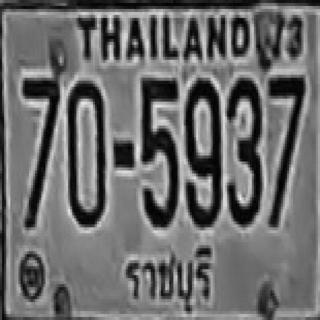N00: (67, 78, 104, 224)
N03: (225, 75, 260, 224)
N05: (140, 75, 178, 224)
N07: (266, 72, 304, 224), (21, 75, 58, 224), (21, 75, 58, 200), (21, 75, 58, 176)
N09: (184, 75, 219, 224)
P52: (114, 239, 225, 317)
